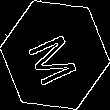M_NE: (25, 24, 85, 86)
